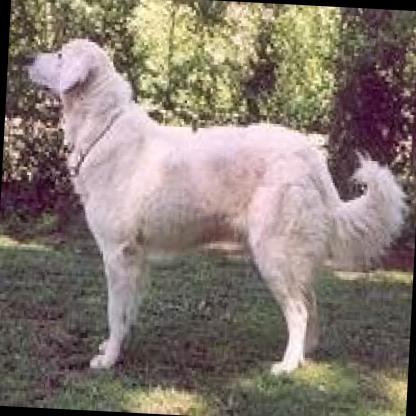kuvasz: (2, 25, 410, 383)
